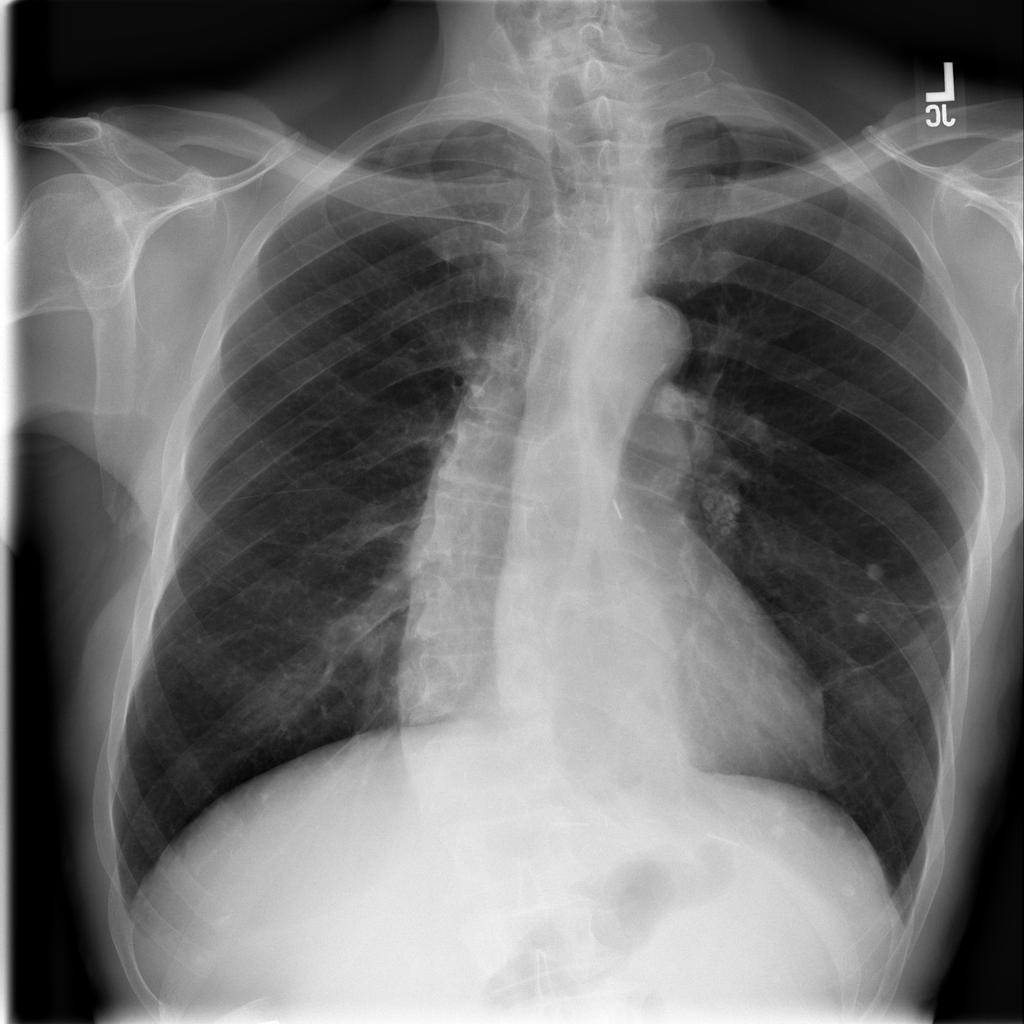nodule: (318, 600, 402, 675), (848, 547, 900, 593), (846, 604, 874, 635)
